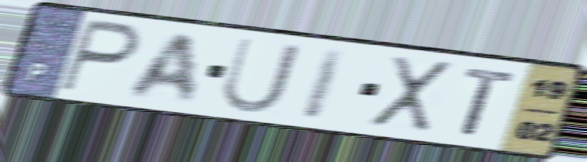A: (123, 30, 200, 106)
I: (297, 45, 352, 123)
P: (54, 16, 146, 96)
T: (458, 66, 521, 139)
U: (216, 34, 306, 116)
X: (367, 53, 457, 134)
